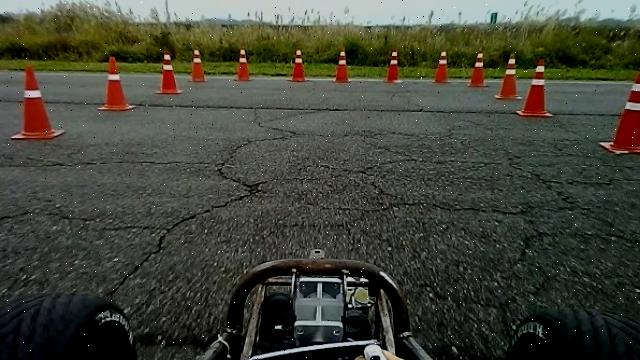red cone: (10, 65, 65, 140), (599, 69, 640, 153), (517, 57, 554, 117), (98, 55, 137, 111), (495, 51, 523, 99), (156, 48, 183, 94), (467, 49, 490, 87), (384, 46, 403, 83), (334, 46, 351, 82), (290, 47, 308, 81), (234, 47, 252, 81), (434, 50, 452, 83), (189, 48, 206, 82)
